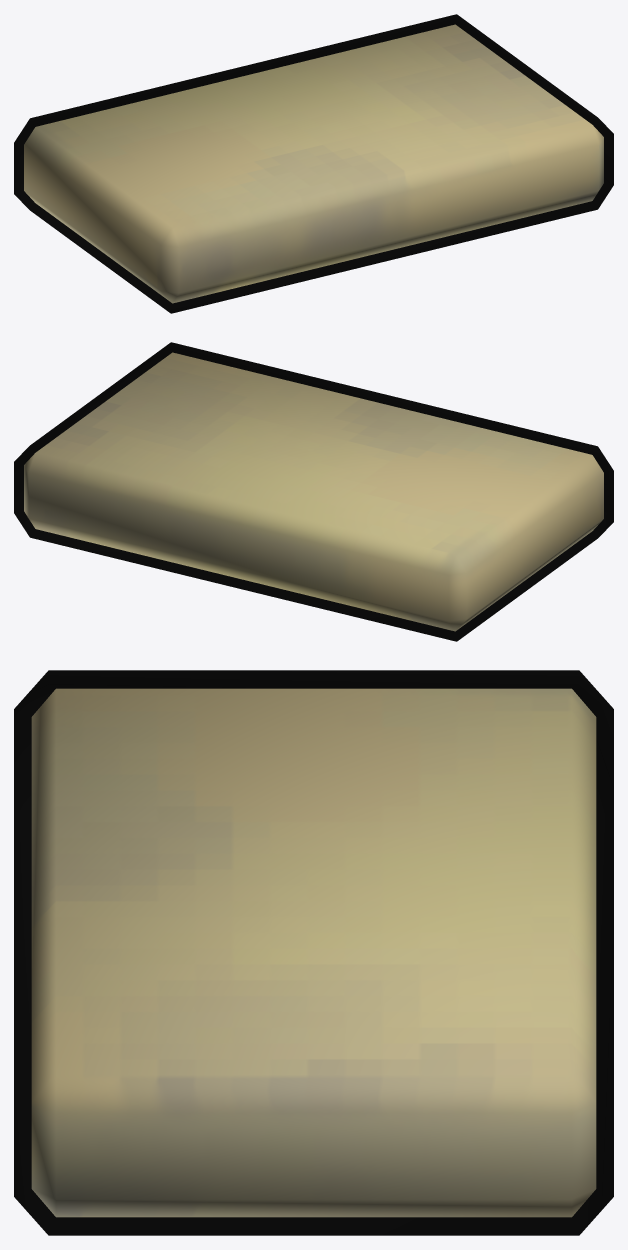
The model's file is Borracha.glb.
3 views of the same model, one above another, from view 1: azimuth 30°, elevation 25°; view 2: azimuth 150°, elevation 25°; view 3: azimuth 270°, elevation 25° (orthographic). The views are drawn at different scales.
Parts seen in each view (by area): view 1: Borracha; view 2: Borracha; view 3: Borracha.
Part boxes in pixels (x1,y1,x2,y2): Borracha: [14, 14, 613, 313]; Borracha: [14, 342, 613, 641]; Borracha: [14, 670, 613, 1235].
Bounding box in the file's own units: 0.8246 × 0.1582 × 0.4961.
2 materials, 1 textured.
